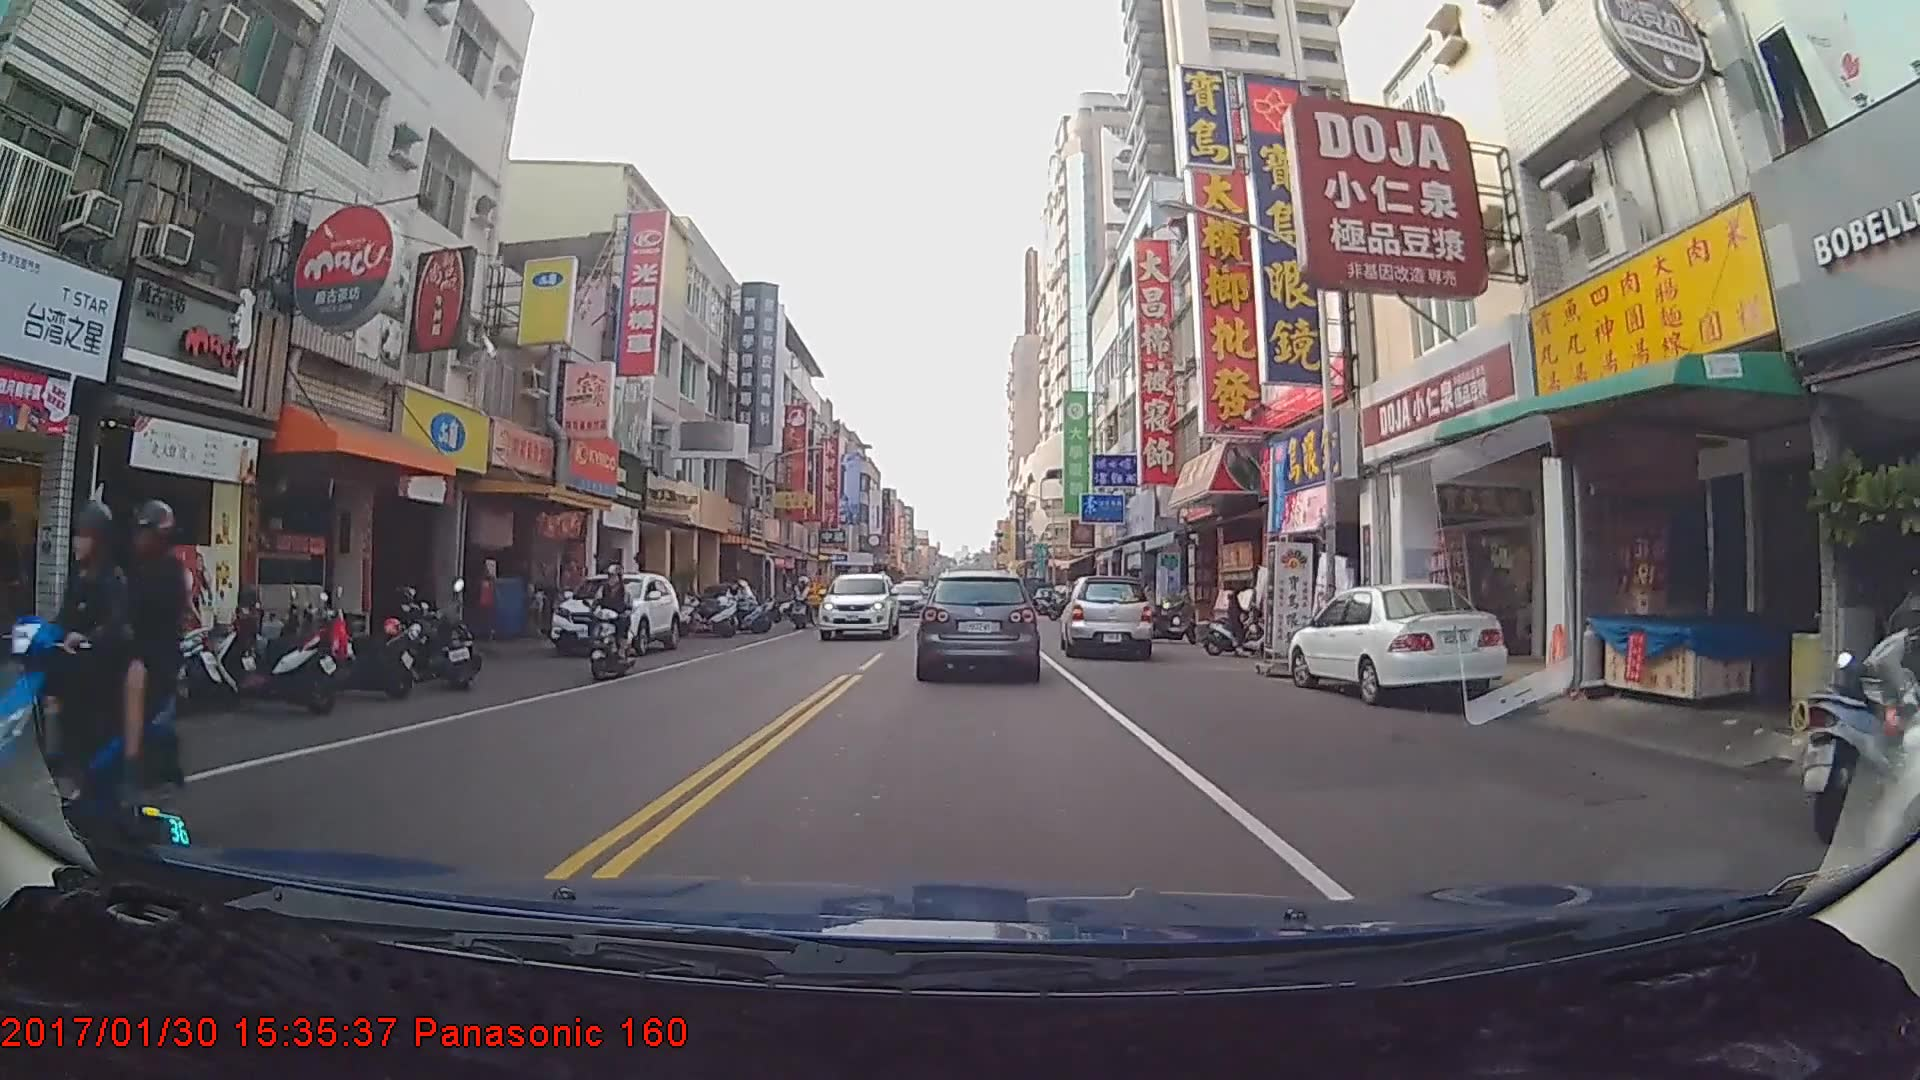rider: (17, 483, 192, 851), (585, 567, 642, 684), (1202, 582, 1281, 661), (788, 572, 816, 633)
vehicle: (1289, 582, 1505, 703), (919, 571, 1039, 677), (547, 571, 681, 656), (1061, 575, 1153, 660), (816, 569, 898, 640), (885, 584, 929, 618)
